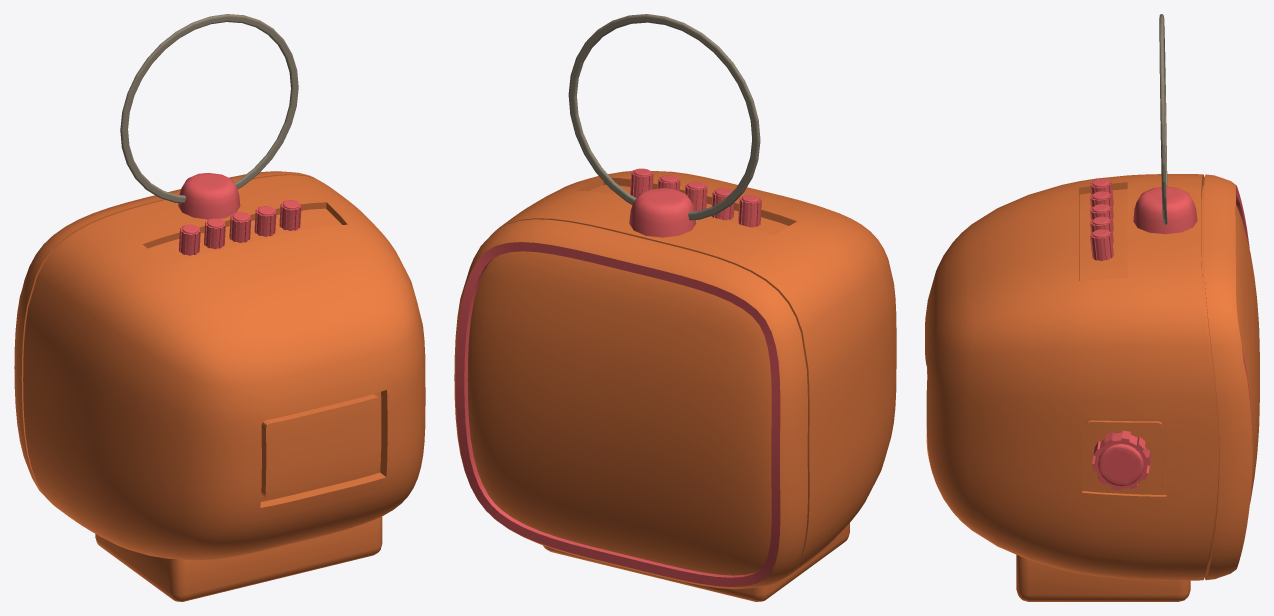
The model's file is television.glb.
The picture shows the model from 3 angles, left to right: view 1: azimuth 30°, elevation 25°; view 2: azimuth 150°, elevation 25°; view 3: azimuth 270°, elevation 25°; orthographic projection. The views are drawn at different scales.
Visible parts, largest first — view 1: Television_Body, Television_Base, television_antena, Television_Knobs, Television_Antena_Base; view 2: Television_Body, Television_Screen_Frame, television_antena, Television_Antena_Base, Television_Knobs, Television_Base; view 3: Television_Body, Television_Base, Television_Knobs, Television_Antena_Base, television_antena.
Boxes of the visible parts, left/top/right/bottom form: Television_Body: left=14, top=171, right=425, bottom=560; Television_Base: left=95, top=516, right=382, bottom=601; television_antena: left=120, top=14, right=298, bottom=203; Television_Knobs: left=179, top=200, right=301, bottom=255; Television_Antena_Base: left=178, top=173, right=240, bottom=219; Television_Body: left=454, top=171, right=896, bottom=589; Television_Screen_Frame: left=455, top=242, right=780, bottom=586; television_antena: left=568, top=14, right=760, bottom=220; Television_Antena_Base: left=629, top=188, right=696, bottom=237; Television_Knobs: left=630, top=168, right=761, bottom=227; Television_Base: left=543, top=523, right=849, bottom=601; Television_Body: left=925, top=174, right=1259, bottom=580; Television_Base: left=1016, top=555, right=1190, bottom=601; Television_Knobs: left=1090, top=178, right=1151, bottom=490; Television_Antena_Base: left=1133, top=186, right=1197, bottom=234; television_antena: left=1159, top=14, right=1167, bottom=224.
Bounding box in the file's own units: 4.63 × 6.7 × 3.84.
